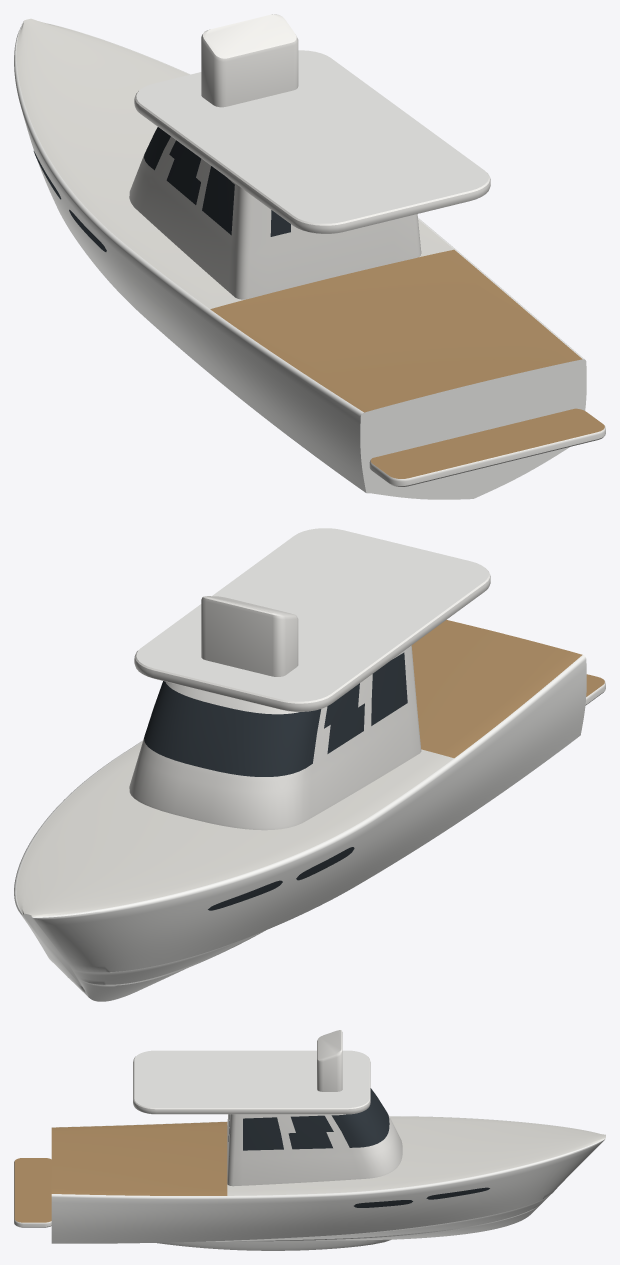
Rendered from committee.glb.
3 renders of one model, top to bottom at view 1: azimuth 30°, elevation 25°; view 2: azimuth 150°, elevation 25°; view 3: azimuth 270°, elevation 25°, orthographic. The views are drawn at different scales.
Parts seen in each view (by area): view 1: committee; view 2: committee; view 3: committee.
Boxes of the visible parts, x1,y1,x2,y2 form: committee: (14, 14, 605, 499); committee: (14, 528, 605, 1001); committee: (14, 1030, 605, 1250).
Size of the model in its own units: 4.3 by 5.42 by 13.83.
